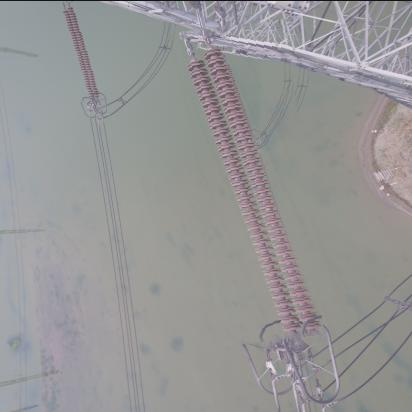insulator: (190, 22, 316, 345), (63, 2, 101, 102)
